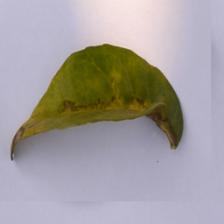greening: (10, 40, 190, 170)
